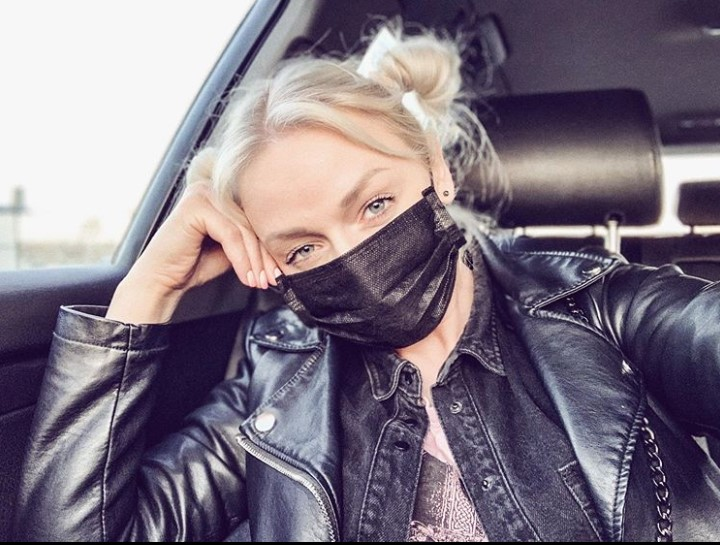face_with_mask: (210, 41, 467, 352)
